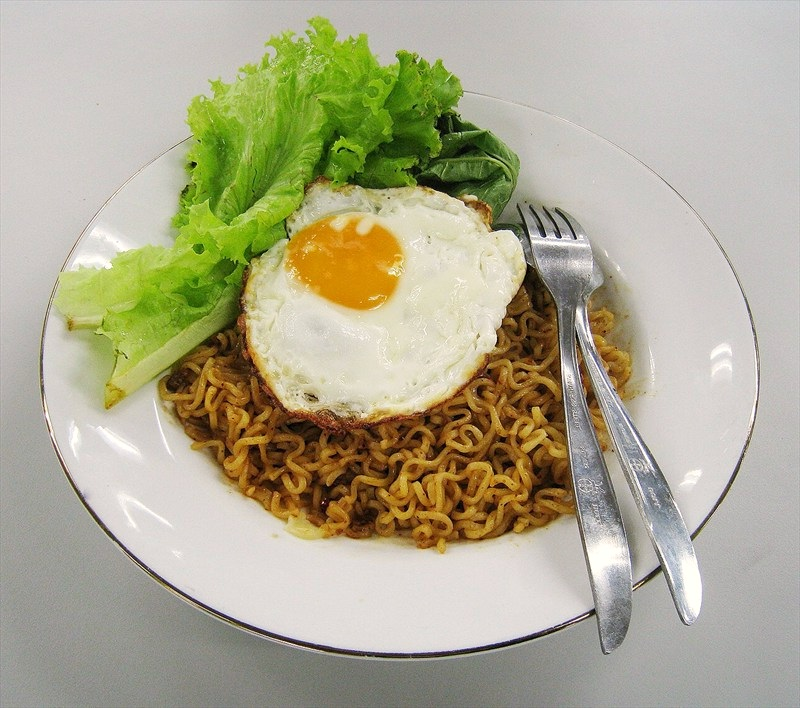Mie Goreng: (152, 70, 608, 550)
